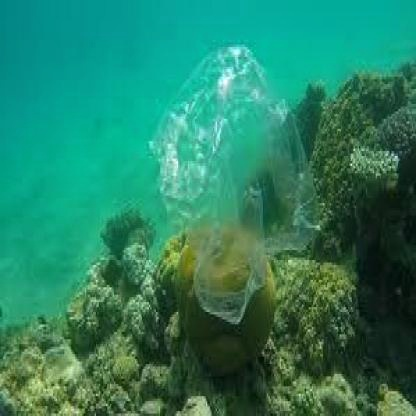pbag: (142, 35, 323, 329)
